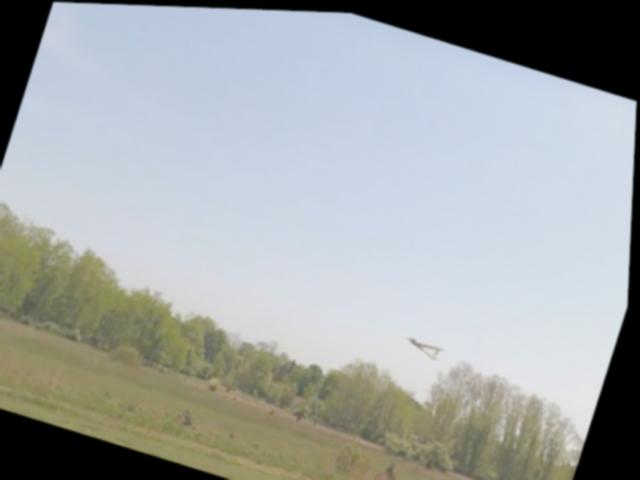iha: (395, 315, 456, 364)
